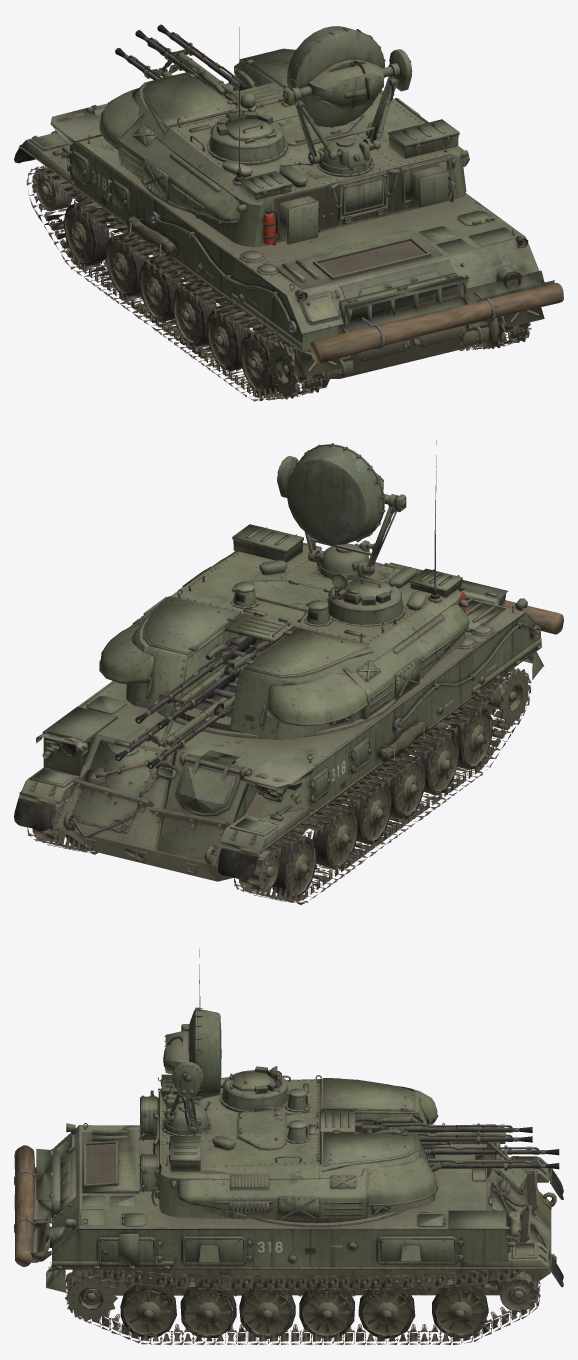
The model's file is zsu234_lo.glb.
3 views of the same model, one above another, from view 1: azimuth 30°, elevation 25°; view 2: azimuth 150°, elevation 25°; view 3: azimuth 270°, elevation 25° (orthographic). The views are drawn at different scales.
Visible parts, largest first — view 1: body_hull, body_detail, turret_body, turret_detail, body_wheels, body_track, dish_drum, body_kit, turret_fair, body_fenders, body_sprockets, radar_base (+5 smaller); view 2: turret_body, body_detail, body_hull, turret_fair, turret_detail, body_wheels, body_track, dish_drum, body_fenders, body_kit, cradle2_up, body_sprockets (+7 smaller); view 3: body_hull, body_detail, turret_body, body_wheels, body_track, turret_fair, turret_detail, body_fenders, dish_drum, body_kit, body_sprockets, body_idlers (+7 smaller).
Part boxes in pixels (<box>): body_hull: <box>70,85,539,378</box>; body_detail: <box>50,63,554,378</box>; turret_body: <box>132,48,466,247</box>; turret_detail: <box>160,27,459,245</box>; body_wheels: <box>64,201,278,395</box>; body_track: <box>26,165,531,401</box>; dish_drum: <box>283,26,412,127</box>; body_kit: <box>52,149,563,363</box>; turret_fair: <box>99,88,469,223</box>; body_fenders: <box>14,131,544,377</box>; body_sprockets: <box>268,316,530,399</box>; radar_base: <box>316,137,374,177</box>; turret_body: <box>126,546,465,739</box>; body_detail: <box>36,562,527,874</box>; body_hull: <box>43,599,540,881</box>; turret_fair: <box>99,557,469,726</box>; turret_detail: <box>133,440,465,738</box>; body_wheels: <box>66,704,492,898</box>; body_track: <box>27,668,531,905</box>; dish_drum: <box>277,443,406,545</box>; body_fenders: <box>14,638,544,880</box>; body_kit: <box>71,600,563,837</box>; cradle2_up: <box>167,634,273,708</box>; body_sprockets: <box>469,668,529,726</box>; body_hull: <box>52,1125,551,1295</box>; body_detail: <box>26,1123,556,1282</box>; turret_body: <box>159,1078,435,1223</box>; body_wheels: <box>120,1281,488,1338</box>; body_track: <box>66,1188,540,1345</box>; turret_fair: <box>170,1086,438,1219</box>; turret_detail: <box>140,949,436,1205</box>; body_fenders: <box>46,1156,563,1292</box>; dish_drum: <box>163,1007,221,1100</box>; body_kit: <box>14,1143,551,1278</box>; body_sprockets: <box>65,1269,117,1321</box>; body_idlers: <box>481,1271,536,1311</box>.
Size of the model in its own units: 3.17 by 4.17 by 6.53.
Materials: 6 (5 with a texture image).
